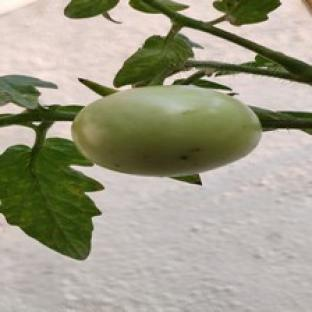Tomato: (73, 85, 261, 176)
